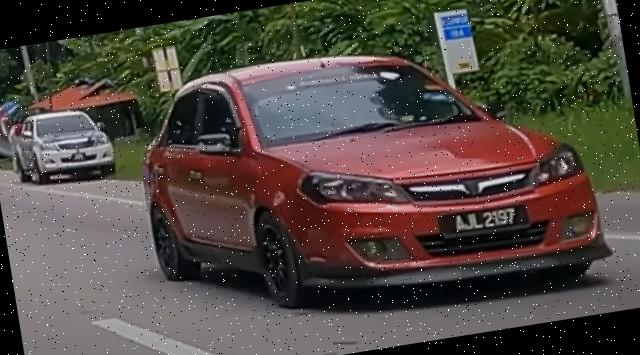License_Plate: (436, 200, 529, 242)
car: (126, 14, 617, 341)
